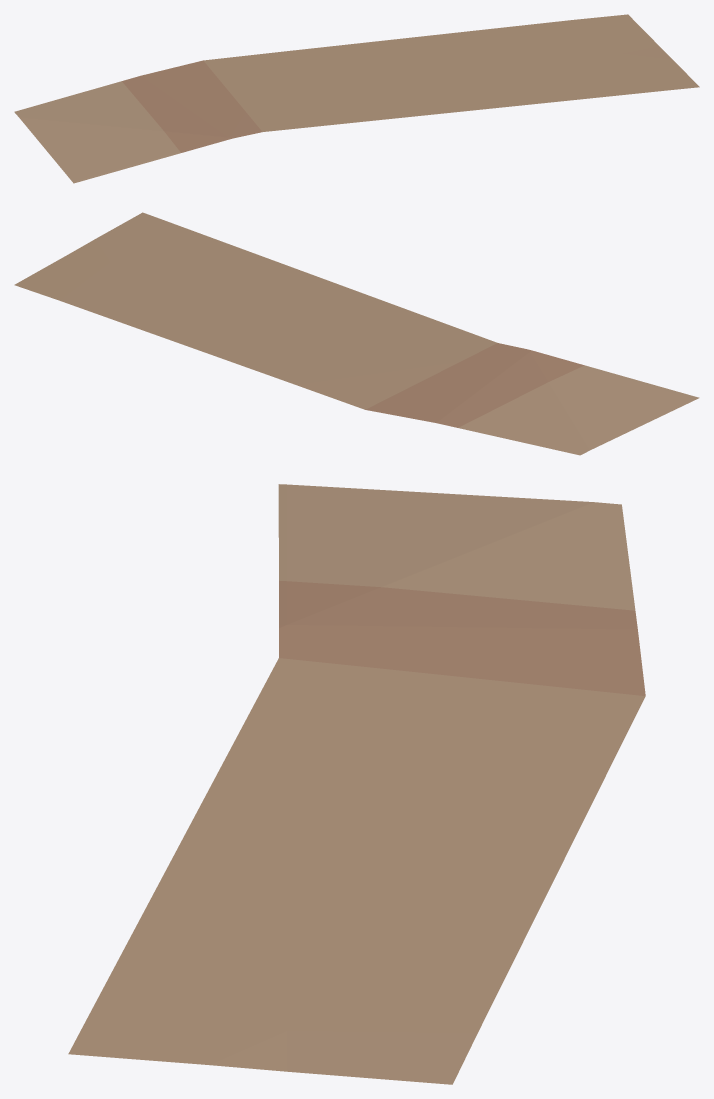
The model's file is farm_30_31_soil.glb.
The picture shows the model from 3 angles, top to bottom: view 1: azimuth 30°, elevation 25°; view 2: azimuth 150°, elevation 25°; view 3: azimuth 270°, elevation 25°; orthographic projection. The views are drawn at different scales.
Visible parts, largest first — view 1: geometry_0; view 2: geometry_0; view 3: geometry_0.
Boxes of the visible parts, x1,y1,x2,y2 form: geometry_0: [14, 14, 699, 183]; geometry_0: [14, 212, 699, 455]; geometry_0: [68, 484, 645, 1084].
Bounding box in the file's own units: 122 × 2.88 × 51.04.
